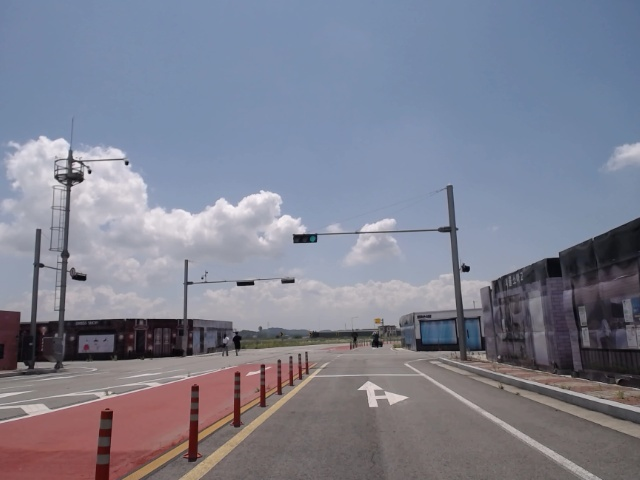green_3: (294, 233, 317, 243)
